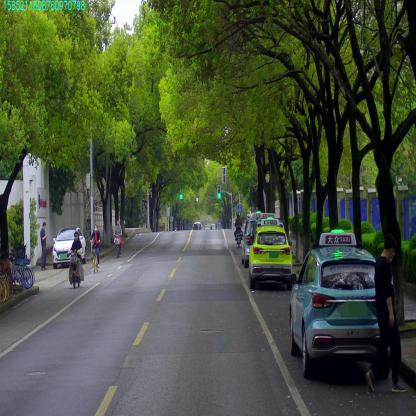traffic-light: (218, 185, 221, 198), (179, 194, 183, 199)
